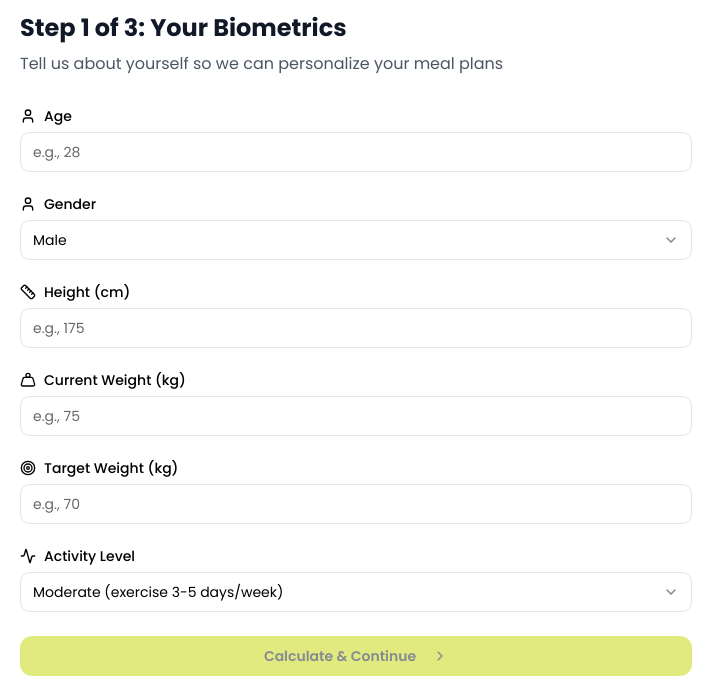
Test case: BiometricsStep Component › AC4: Required field validation › should enable submit button when all fields are valid
Type "28" into the number field with placeholder "e.g., 28" at (356, 152), box 20,132 -> 692,172
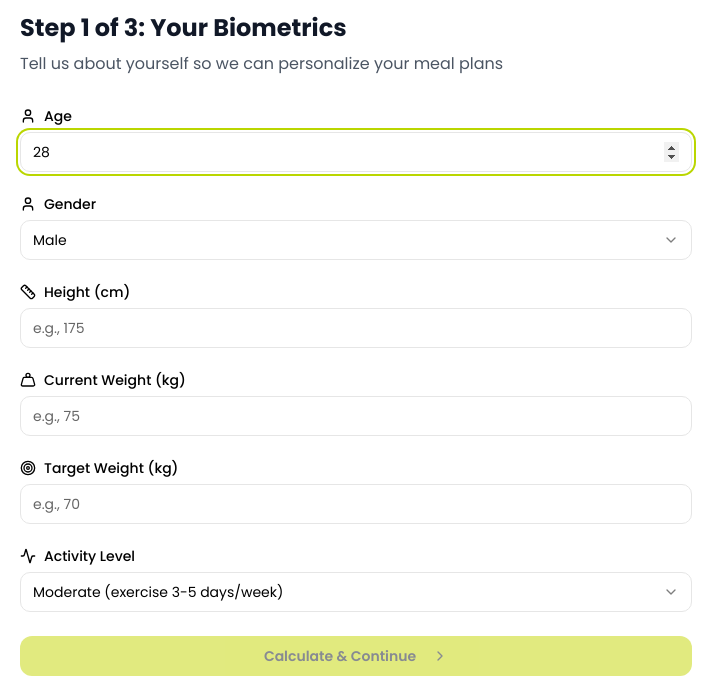
Type "175" into the number field with placeholder "e.g., 175" at (356, 328), box 20,308 -> 692,348
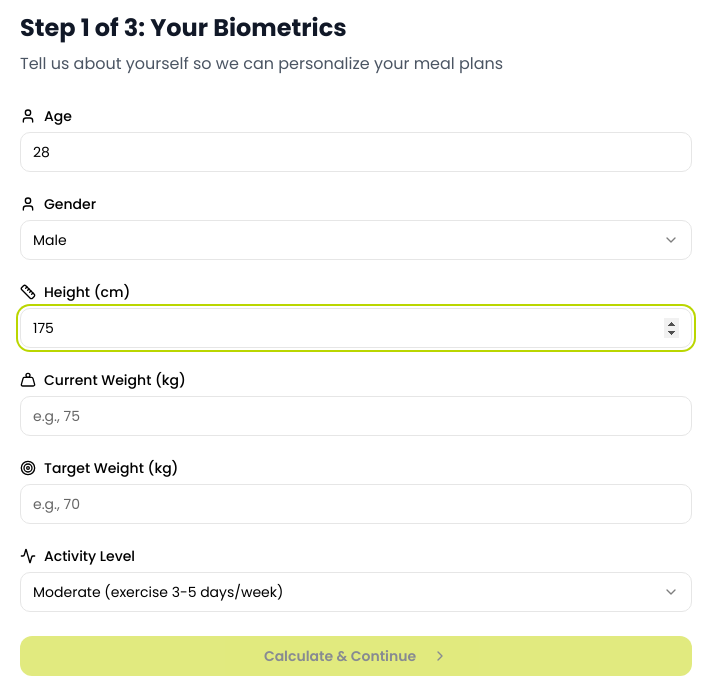
Type "75" into the number field with placeholder "e.g., 75" at (356, 416), box 20,396 -> 692,436
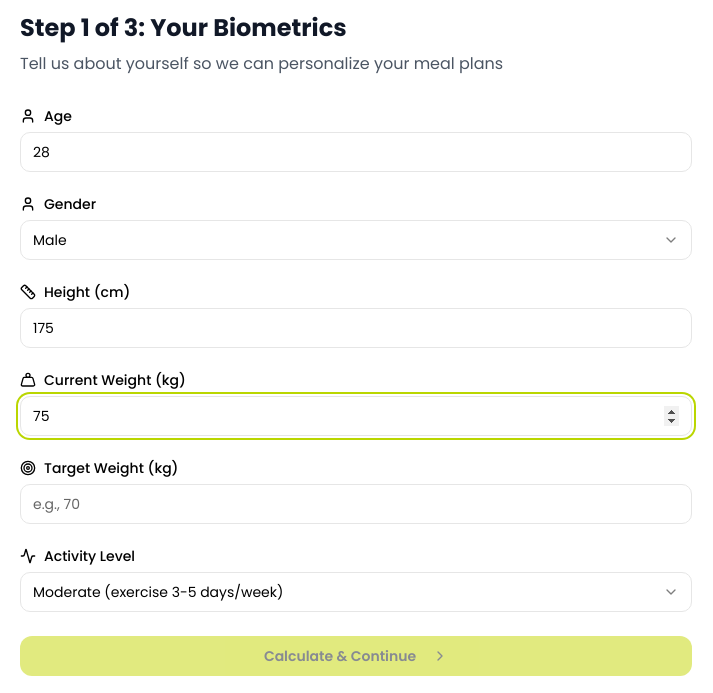
Type "70" into the number field with placeholder "e.g., 70" at (356, 504), box 20,484 -> 692,524
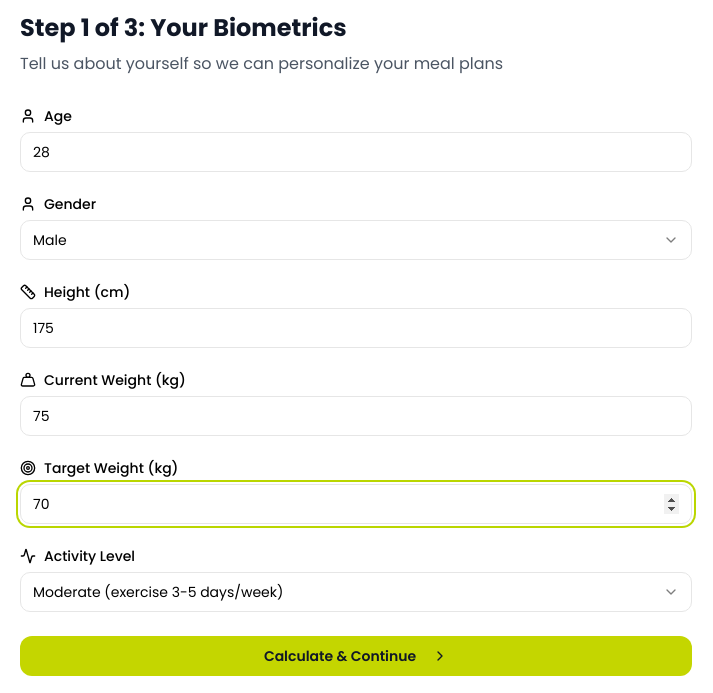
Check: the button "Calculate & Continue" is enabled, box 20,636 -> 692,676
